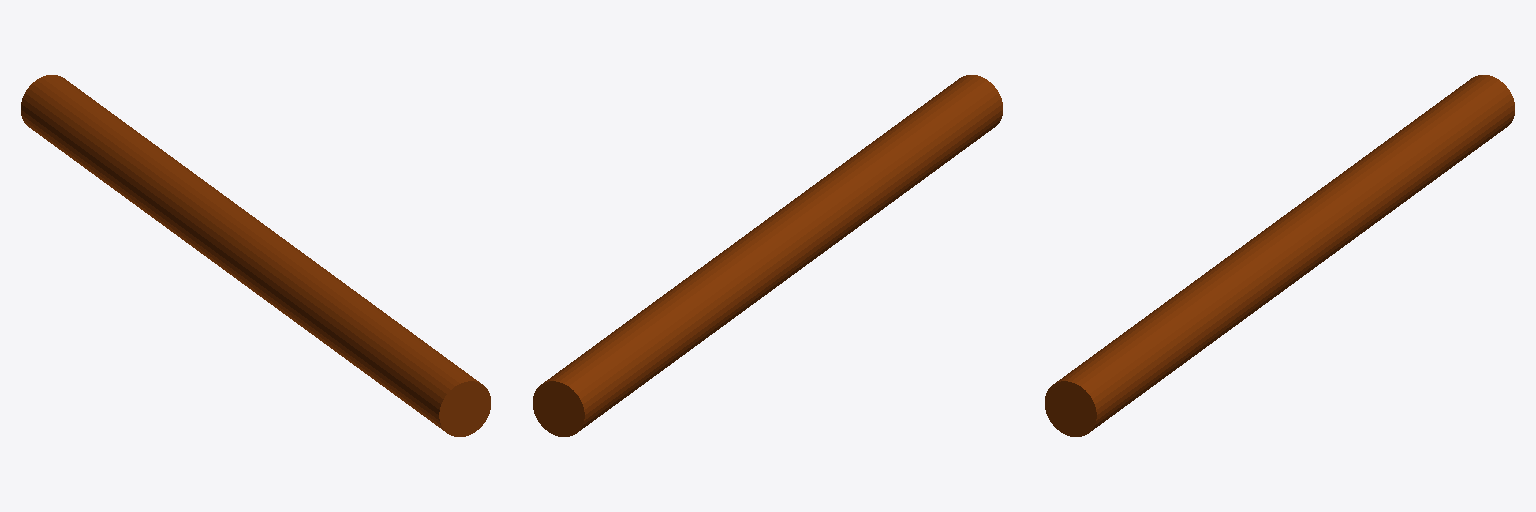
robot.urdf — cylinder:
<?xml version="1.0" ?>
<!-- =================================================================================== -->
<!-- |    This document was autogenerated by xacro from cylinder.xacro                 | -->
<!-- |    EDITING THIS FILE BY HAND IS NOT RECOMMENDED                                 | -->
<!-- =================================================================================== -->
<robot name="cylinder">
  <link name="world"/>
  <link name="base">
    <visual>
      <origin rpy="1.57079633 0 0" xyz="0 0 0"/>
      <geometry>
        <cylinder length="7.07106781185" radius="0.255"/>
      </geometry>
      <material name="cylinder_material">
        <color rgba="0.545 0.271 0.075 1.0"/>
        <texture filename="../textures/tree_bark.jpg"/>
      </material>
    </visual>
    <collision>
      <origin rpy="1.57079633 0 0" xyz="0 0 0"/>
      <geometry>
        <cylinder length="7.07106781185" radius="0.255"/>
      </geometry>
    </collision>
    <inertial>
      <origin rpy="0 0 0" xyz="0 0 0"/>
      <mass value="1"/>
      <inertia ixx="4.182922916648429" ixy="0.0" ixz="0.0" iyy="4.182922916648429" iyz="0.0" izz="24.999999999890573"/>
    </inertial>
  </link>
  <joint name="base_joint" type="fixed">
    <parent link="world"/>
    <child link="base"/>
    <origin rpy="0 0 0" xyz="0.0 0.0 0.0"/>
  </joint>
</robot>

--- Facts derived from the render (not from the file) ---
3 views of the same robot in one strip: view 1: azimuth 30°, elevation 25°; view 2: azimuth 150°, elevation 25°; view 3: azimuth 330°, elevation 25° (orthographic).
Robot: cylinder — 2 links, 1 joints (1 fixed); root link world; default pose: all joints at 0.
Links seen in each view (by area): view 1: base; view 2: base; view 3: base.
Boxes of the visible links, <box> form: base: <box>21,75,490,436</box>; base: <box>533,75,1002,436</box>; base: <box>1045,75,1514,436</box>.
Size in the robot's own frame: 0.51 by 7.07 by 0.51 metres.
Geometry: primitives only (box / cylinder / sphere), no mesh files.
